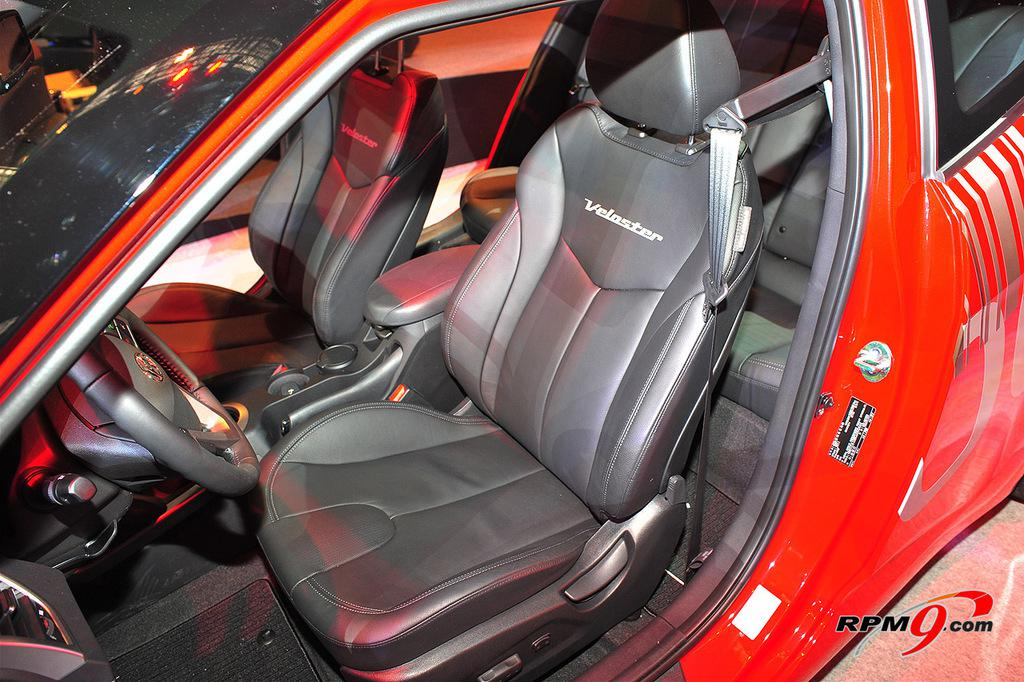Car: (97, 0, 961, 670)
